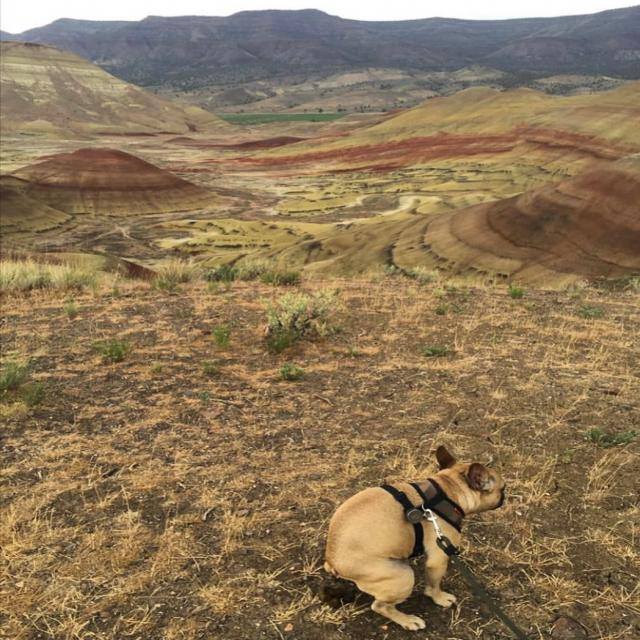squatting: (312, 445, 525, 632)
